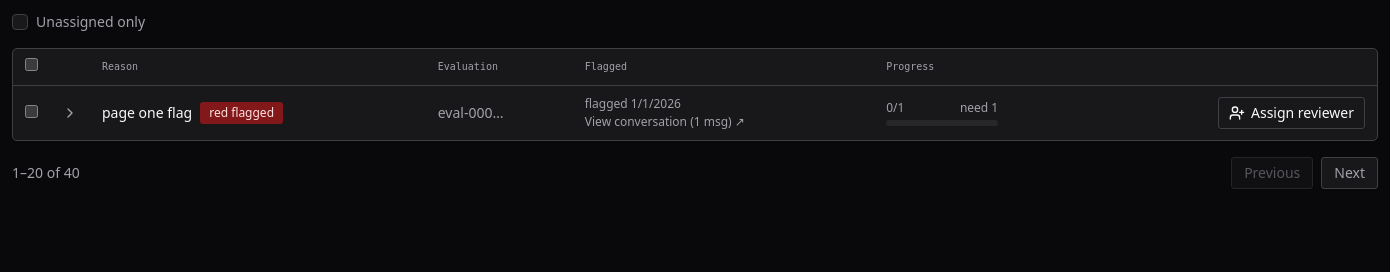
Test: ReviewQueuePage — batch selection › Clear empties the selection and hides the batch bar
Expected: the link "page one flag" is shown, 102,102 -> 192,122
Click the checkbox named "Select all rows".
click(32, 65)  # box 25,58 -> 38,71
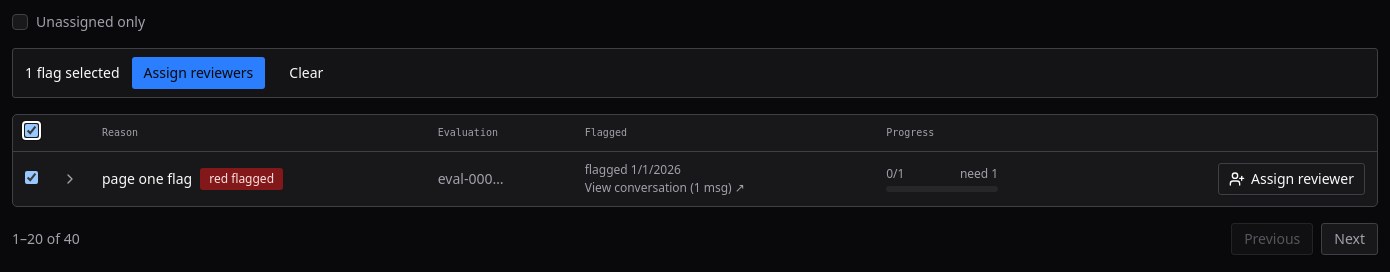
Expected: the text "1 flag selected" is shown, 25,63 -> 120,83
Click the button "Clear".
click(306, 73)  # box 277,57 -> 335,89
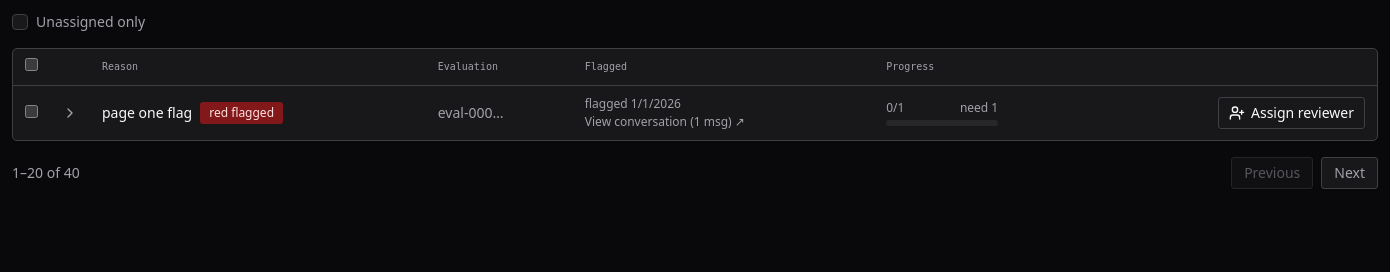
Expected: the text "flag selected" is gone
